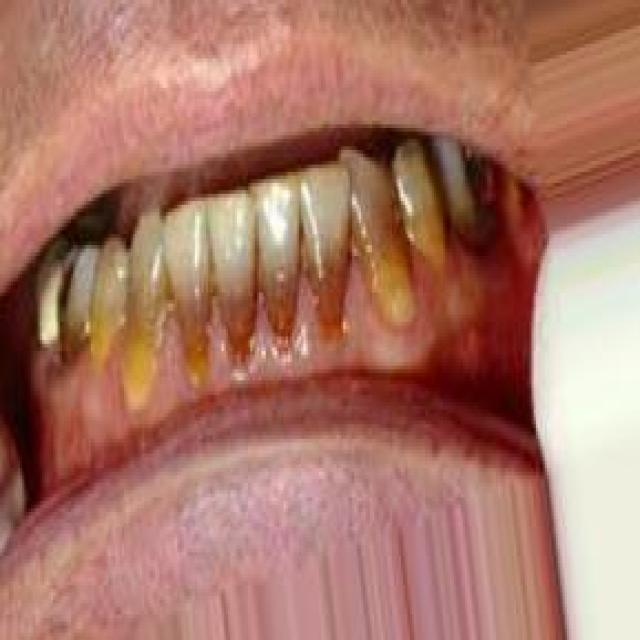caries: (50, 248, 86, 322)
